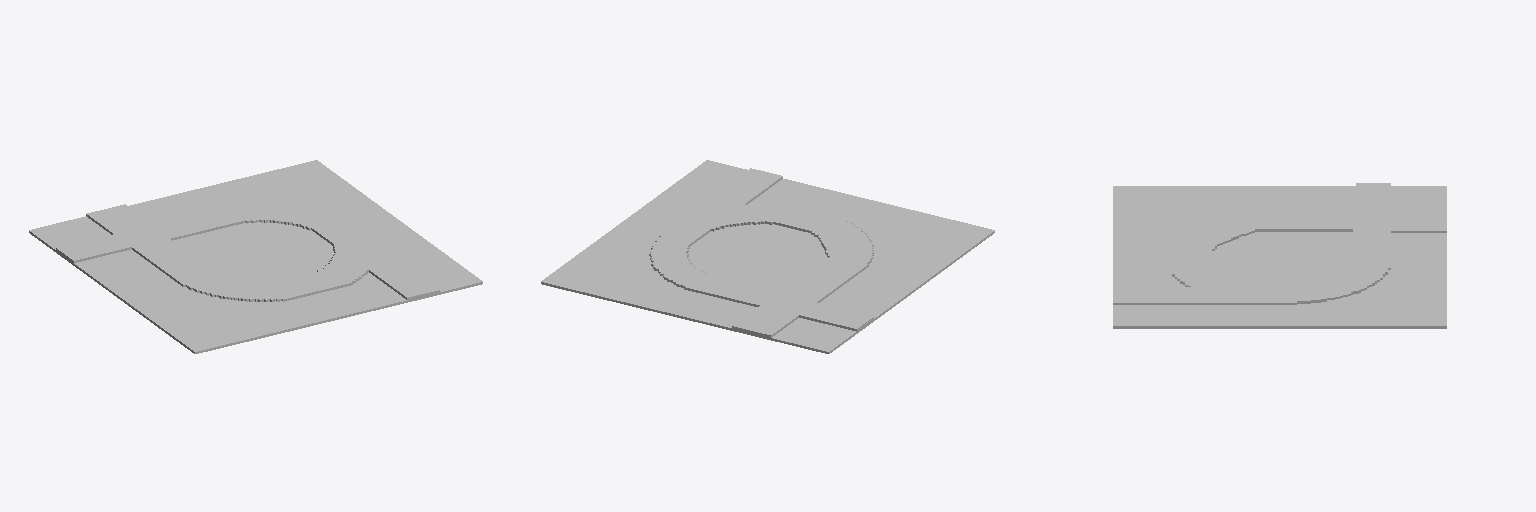
Rendered from map3.obj.
3 renders of one model, left to right at view 1: azimuth 30°, elevation 25°; view 2: azimuth 150°, elevation 25°; view 3: azimuth 270°, elevation 25°, orthographic.
Bounding box in the file's own units: 125 × 2 × 125.